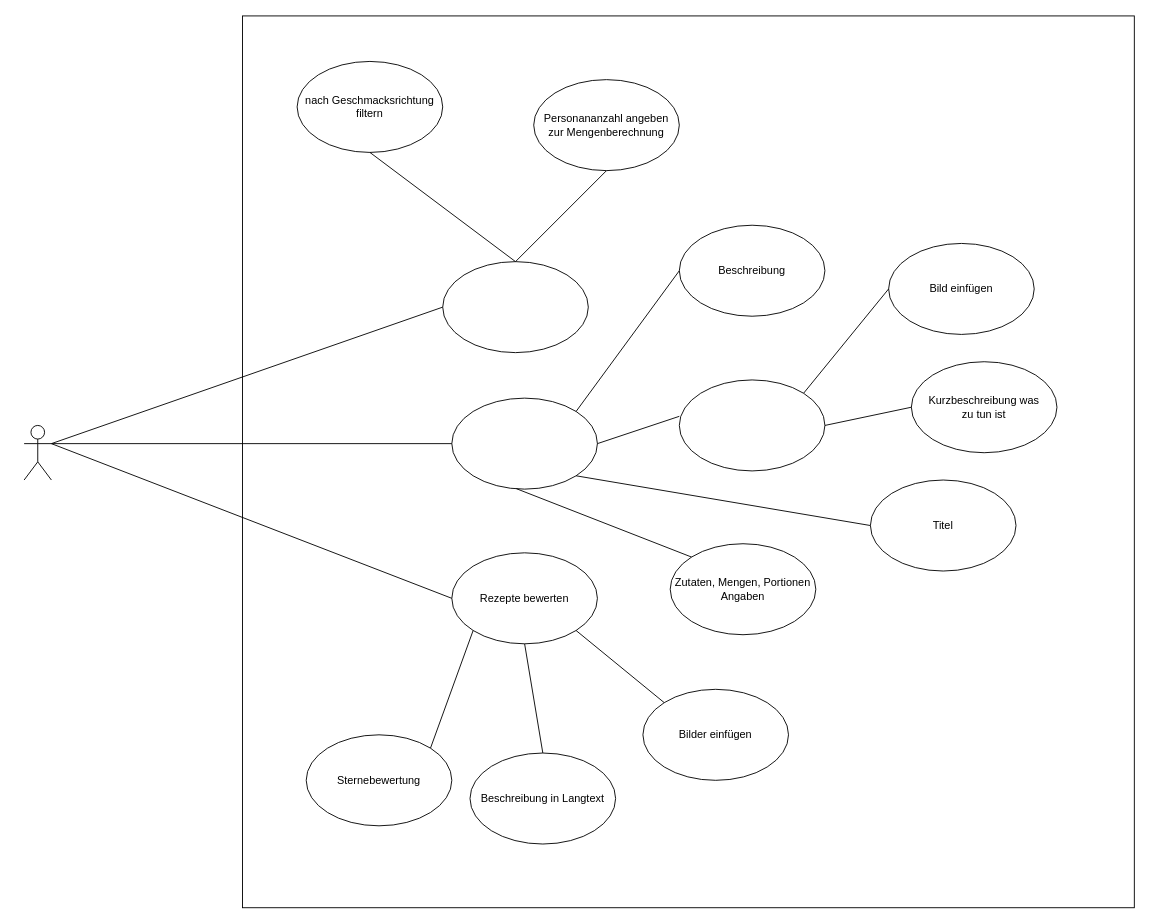
This 1150x924 diagram has some shape labels left out. Each missing label, with the box of its shape:
Benutzer: (23, 425, 51, 480)
Kochschritte hinzufügen: (678, 379, 825, 471)
Rezepte hochladen: (451, 397, 597, 489)
Rezepte suchen: (442, 261, 588, 353)
